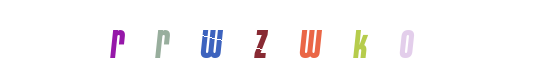0: (320, 0, 400, 80)
K: (269, 0, 349, 80)
R: (76, 0, 156, 80), (155, 0, 235, 80)
W: (171, 0, 251, 80), (233, 0, 313, 80)
Z: (221, 0, 301, 80)
